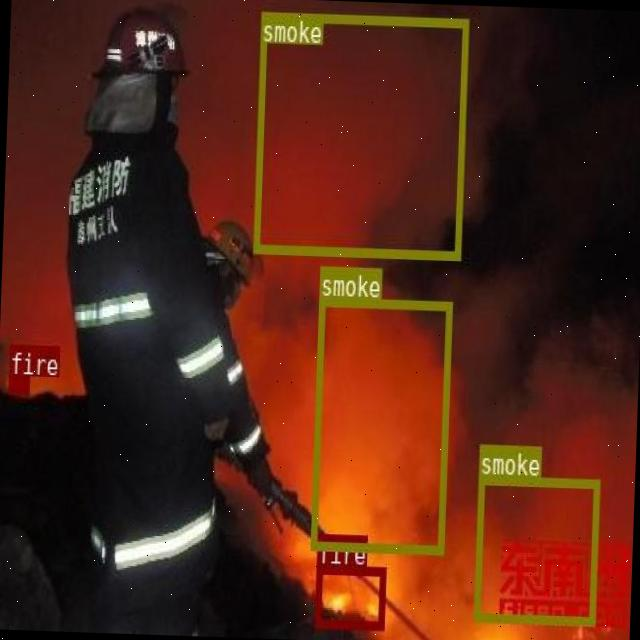fire: (314, 563, 384, 628), (7, 375, 27, 392)
smoke: (252, 11, 468, 258), (309, 297, 451, 551), (472, 473, 598, 622)
